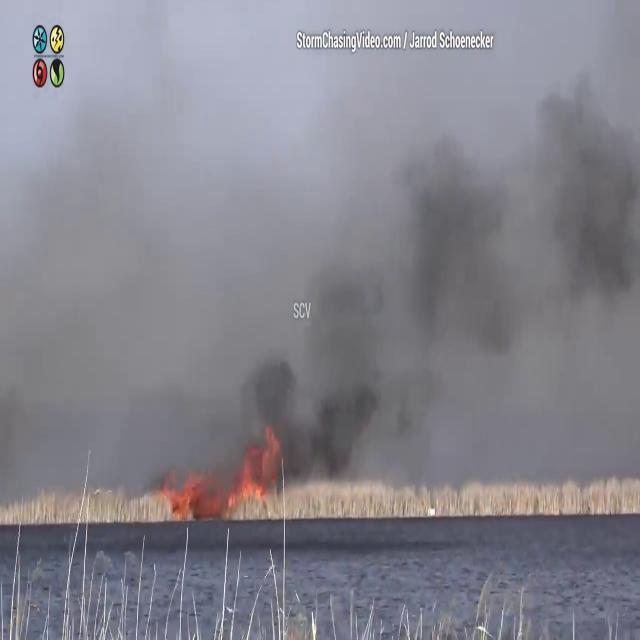Fire: (228, 421, 288, 504)
Smoke: (228, 52, 640, 504)
